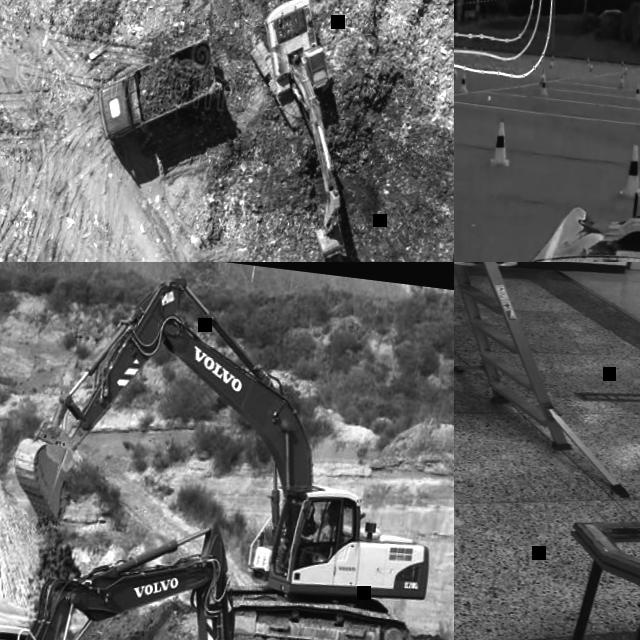NO-Hardhat: (318, 508, 329, 519)
Person: (295, 507, 334, 570)
Safety Cone: (486, 115, 515, 171), (615, 138, 640, 198), (456, 67, 469, 95), (536, 72, 548, 98), (630, 78, 640, 103), (616, 71, 625, 92), (454, 61, 458, 83)
Safety Vest: (312, 523, 331, 544)
machinery: (0, 263, 454, 640), (221, 0, 388, 262), (0, 479, 268, 640), (87, 19, 227, 160)
vehicle: (454, 154, 640, 262)
